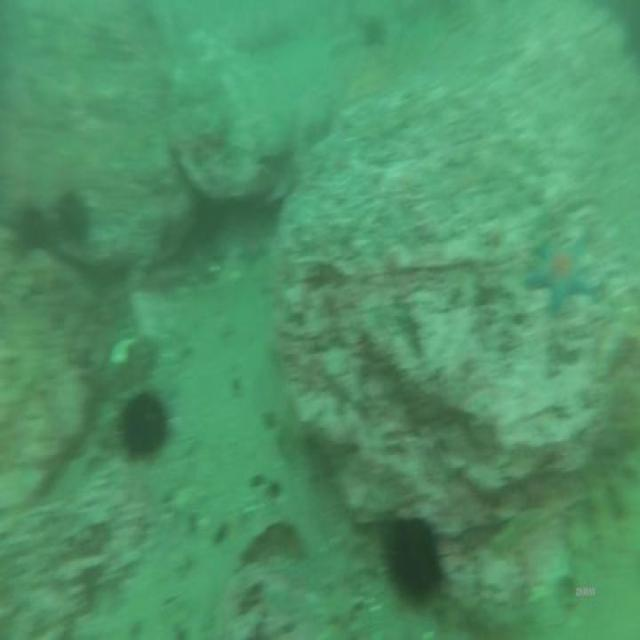echinus: (386, 512, 442, 604), (120, 389, 169, 463), (52, 185, 90, 250), (17, 199, 50, 258)
starfish: (526, 226, 598, 322)
